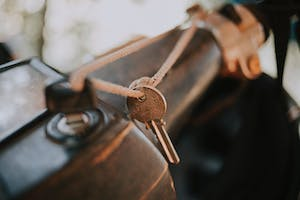key: (126, 86, 181, 165)
